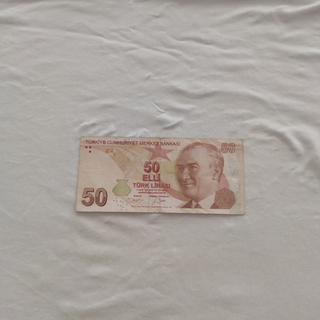50TLFront: (75, 136, 244, 215)
